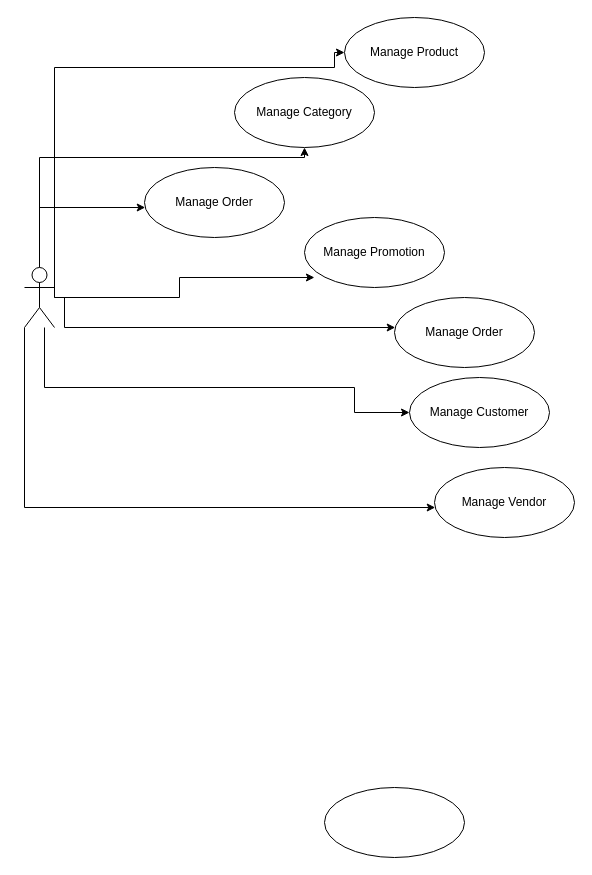
Some shapes in this 592 by 875 pixel diagram are drawn without their labels. The shapes that lost their labels are listed below. From the top down, each one's centre as x and y in pixels, then its label:
At pixel 39 297: "Admin".
At pixel 394 822: "Use Case".
